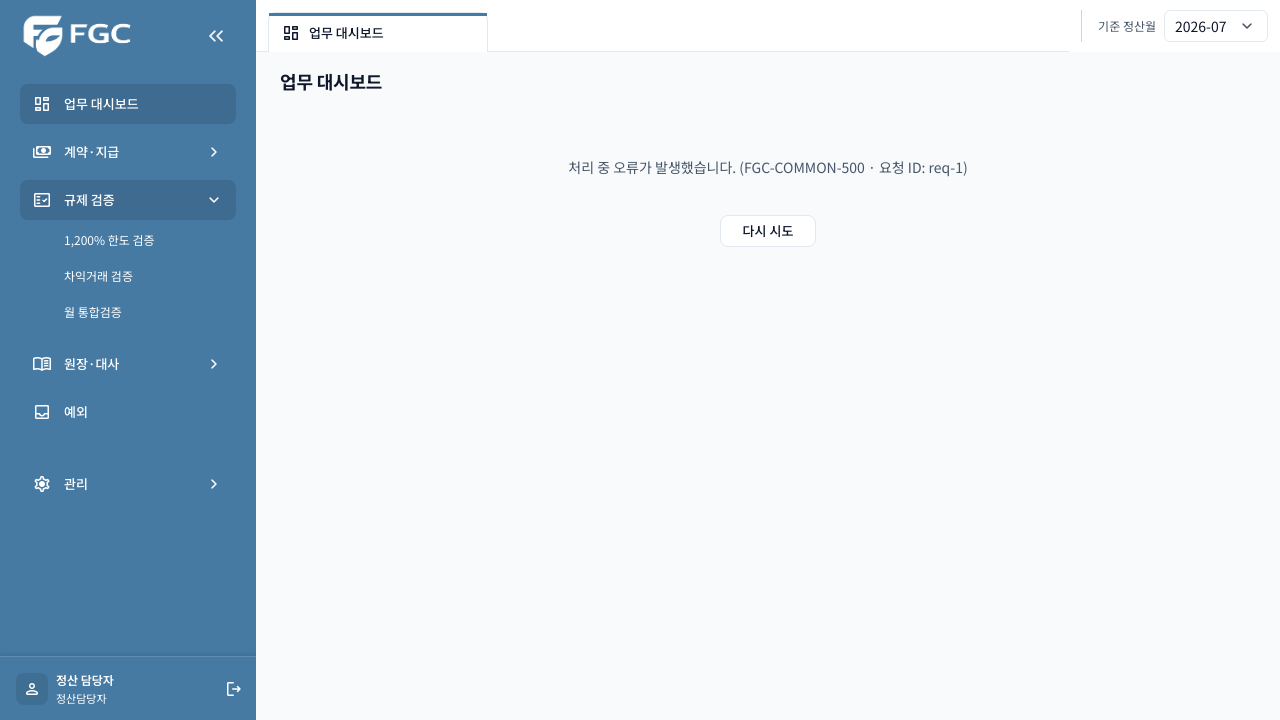
Test: DASH-W01 업무 대시보드 › API 오류는 화면에 안내하고 다시 시도하면 복구한다
This screenshot has width=1280, height=720.
Check: the message shows "처리 중 오류가 발생했습니다.", box [568,156,968,176]
What coordinates should you click on to do the following:
click the button "다시 시도"
I would click on:
 (768, 232)
Its box is [720,216,816,248].
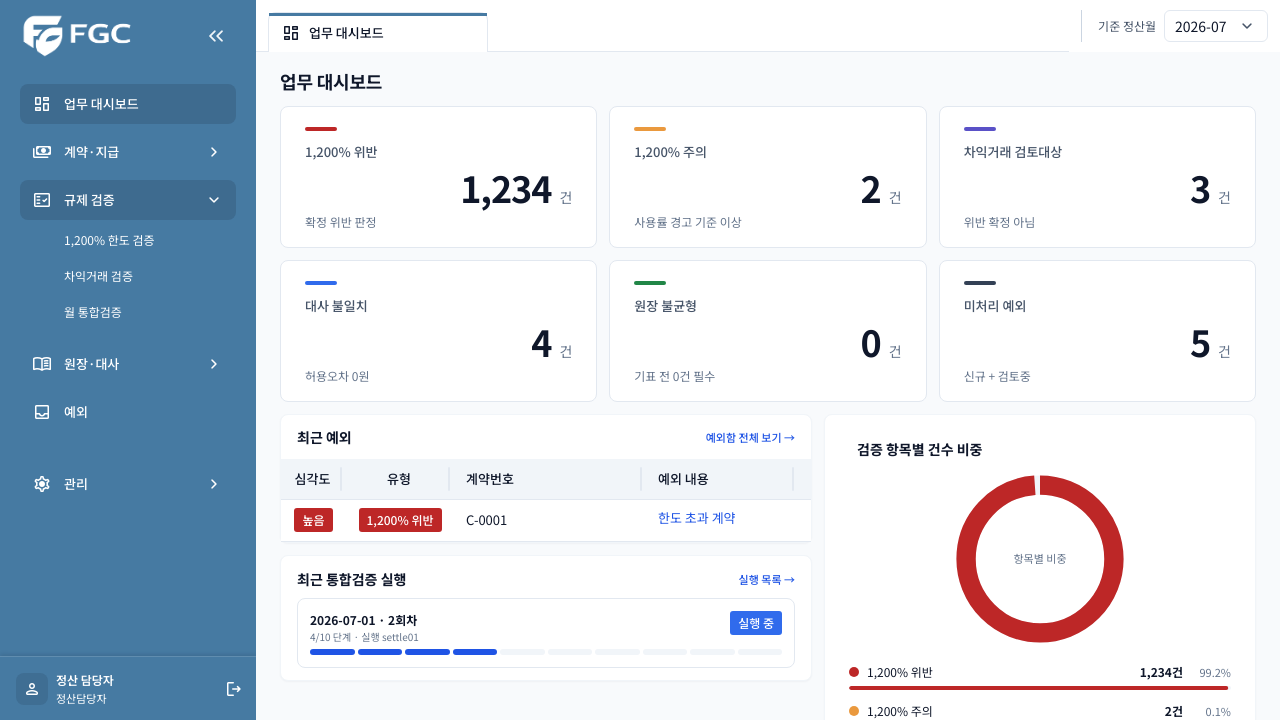
Check: the element named "주요 검증 지표" is shown, box [280,106,1256,402]
